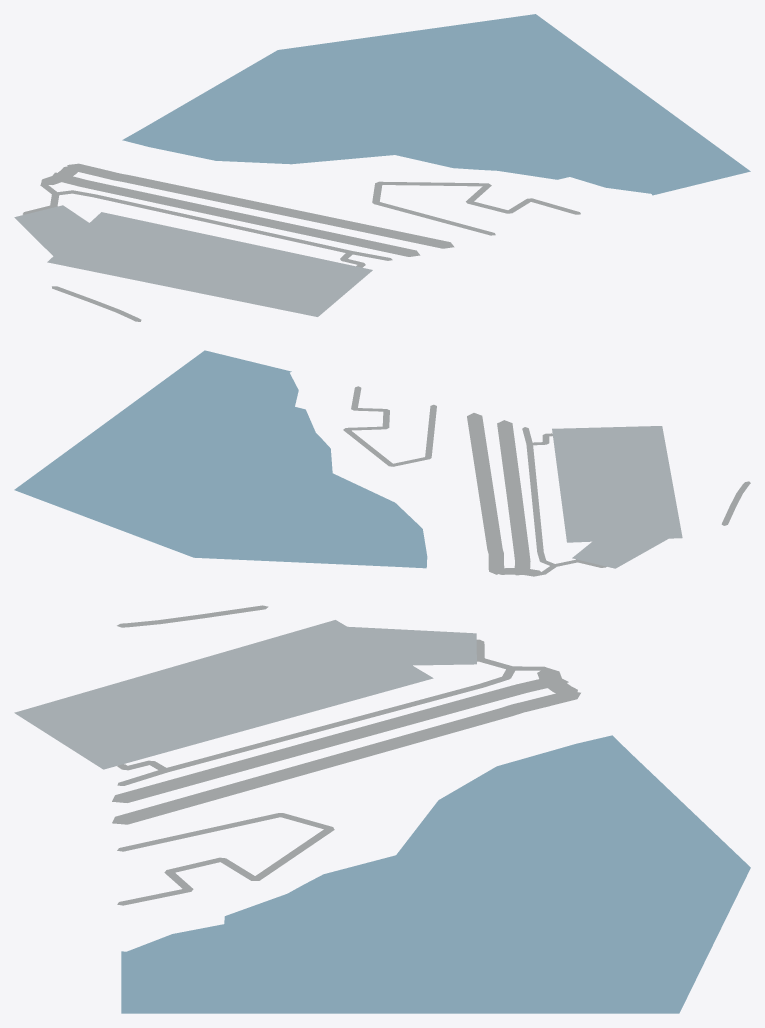
The model's file is 13_8-known-fine.glb.
The picture shows the model from 3 angles, top to bottom: view 1: azimuth 30°, elevation 25°; view 2: azimuth 150°, elevation 25°; view 3: azimuth 270°, elevation 25°; orthographic projection. The views are drawn at different scales.
Size of the model in its own units: 299 by 0.15 by 228.
